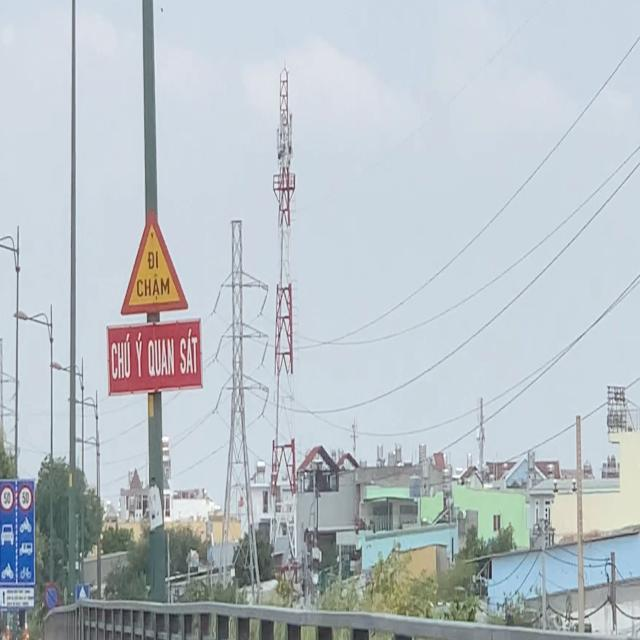Nguy hiem: (119, 205, 190, 318)
Toc do toi da: (18, 484, 33, 512), (0, 485, 15, 511)
